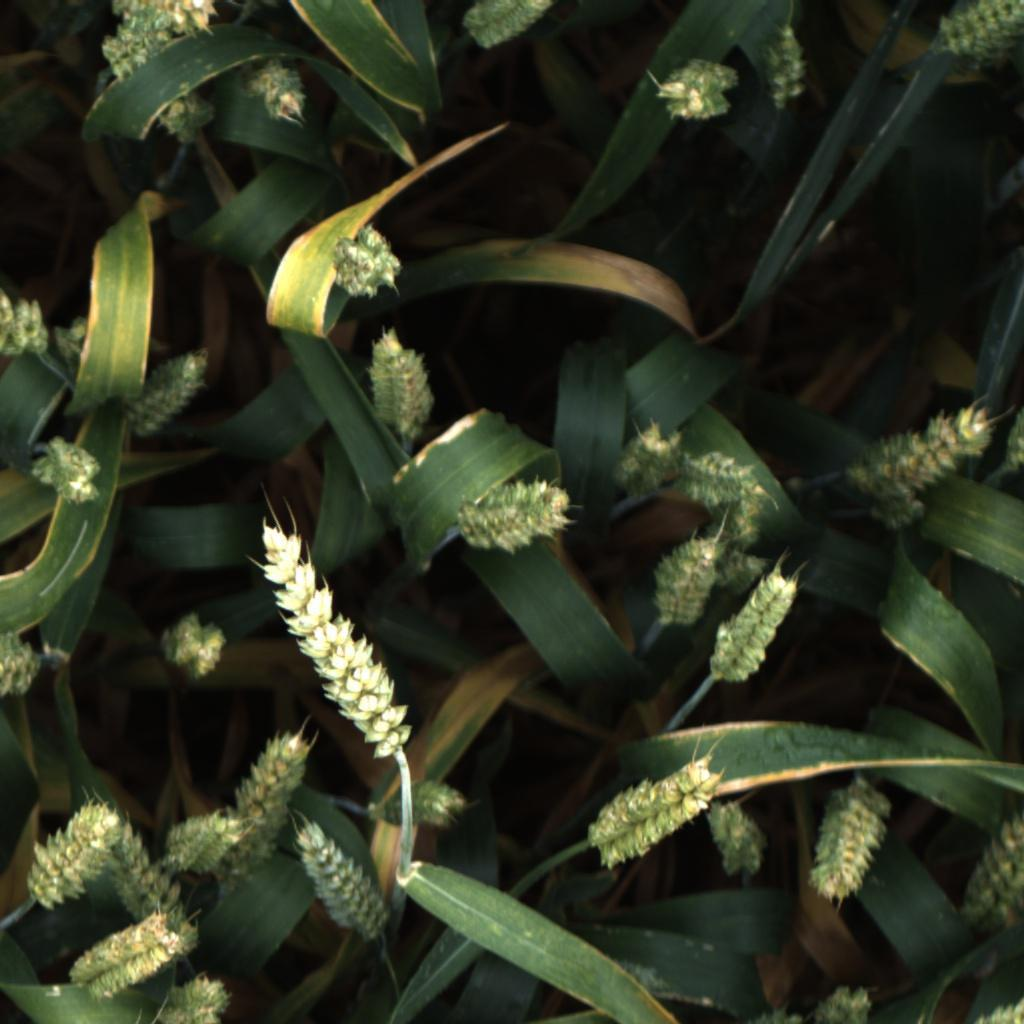0-0: (248, 522, 422, 765), (588, 746, 728, 868), (96, 806, 199, 969), (840, 404, 995, 506), (66, 902, 192, 1009), (227, 725, 310, 886), (21, 795, 127, 914), (804, 771, 897, 903), (290, 824, 384, 940), (708, 569, 800, 685), (450, 479, 574, 558), (362, 328, 438, 447), (958, 788, 1024, 924), (646, 528, 723, 631), (122, 351, 209, 437), (330, 215, 413, 302), (93, 6, 175, 94), (26, 431, 109, 516), (921, 0, 1024, 63), (669, 447, 767, 510), (654, 52, 740, 122), (158, 807, 241, 878), (608, 420, 683, 498), (756, 19, 819, 110), (149, 613, 232, 682), (456, 0, 557, 56), (375, 779, 472, 837), (0, 274, 60, 367), (701, 798, 769, 874), (703, 488, 774, 556), (245, 56, 308, 132), (108, 0, 222, 41), (704, 543, 773, 608), (152, 88, 220, 150), (156, 975, 235, 1024), (0, 620, 47, 700), (805, 978, 878, 1024), (52, 312, 91, 391), (869, 490, 928, 542), (1003, 404, 1024, 477), (740, 1004, 806, 1024)
